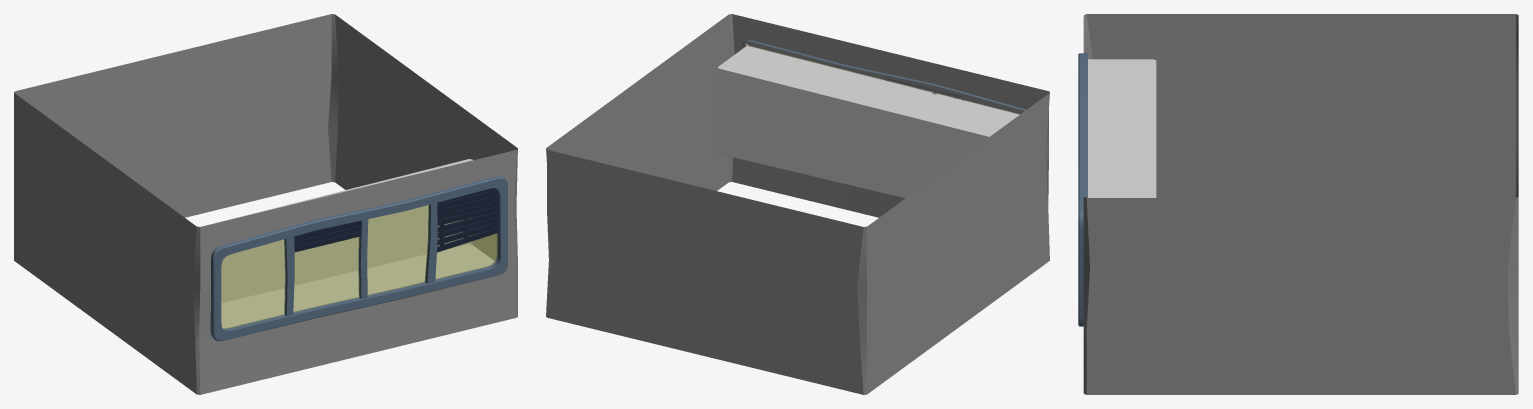
Rendered from Blockout_Building_Large_02.FBX.
The picture shows the model from 3 angles, left to right: view 1: azimuth 30°, elevation 25°; view 2: azimuth 150°, elevation 25°; view 3: azimuth 270°, elevation 25°; orthographic projection. The views are drawn at different scales.
Parts seen in each view (by area): view 1: Blockout_Building_Large_02; view 2: Blockout_Building_Large_02; view 3: Blockout_Building_Large_02.
Boxes of the visible parts, box(x1,y1,x2,y2) form: Blockout_Building_Large_02: box(14, 14, 517, 394); Blockout_Building_Large_02: box(546, 14, 1049, 394); Blockout_Building_Large_02: box(1078, 14, 1518, 394).
Bounding box in the file's own units: 1524 × 762 × 1543.
